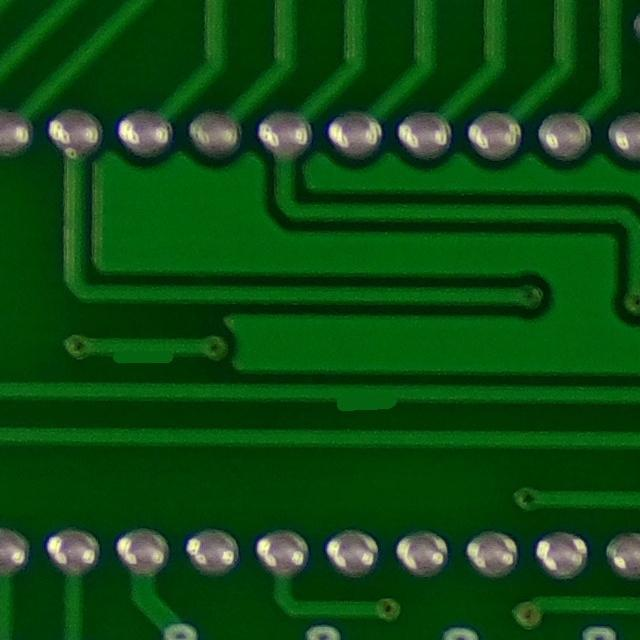spur: (102, 319, 179, 380), (324, 373, 406, 426)
